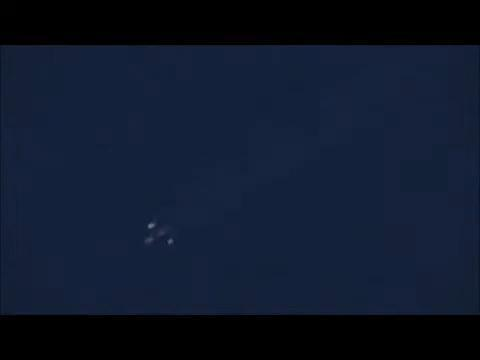Plane: (119, 206, 194, 258)
